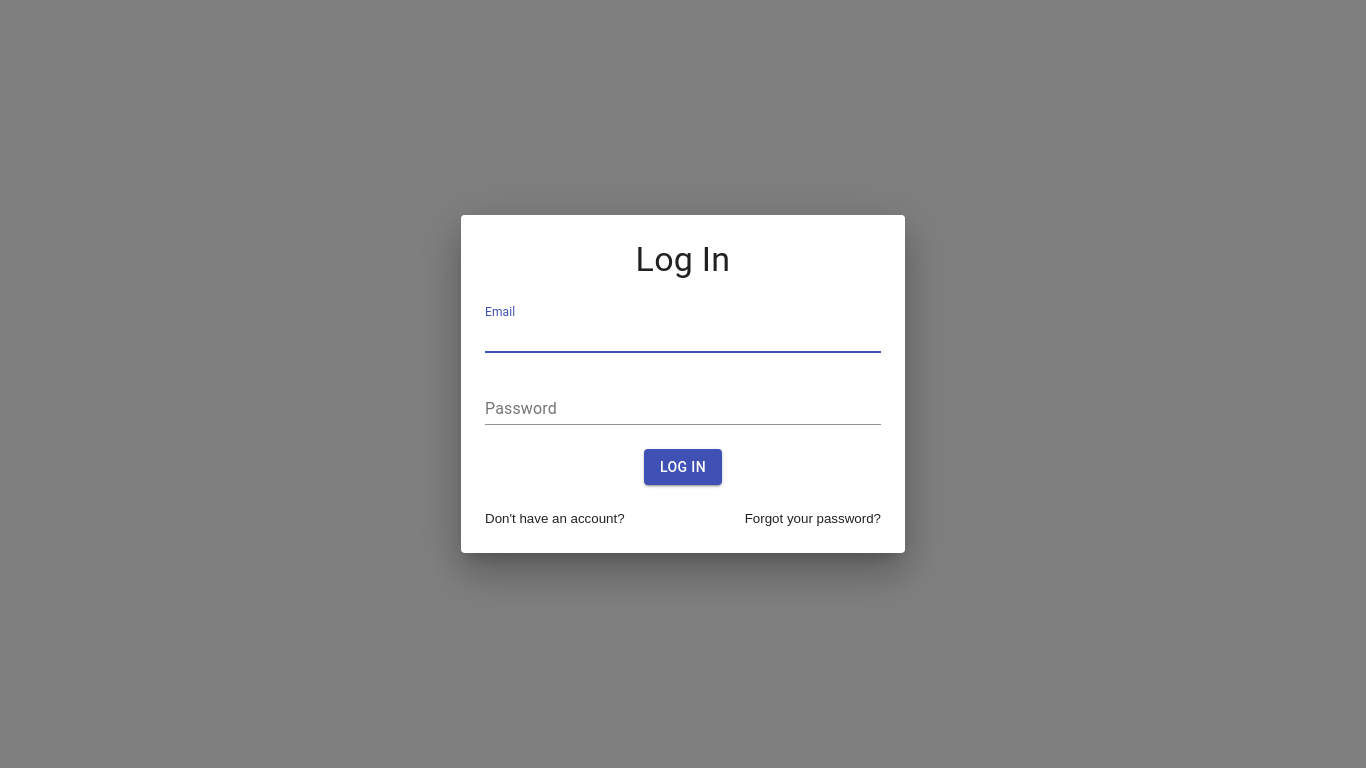
it: <SignInDialog /> › Validation › should give an error on submit if password is less than 6 characters
In the field labelled "Email": {"x": 683, "y": 337} [485, 321, 881, 353], type "123@gmail.com"
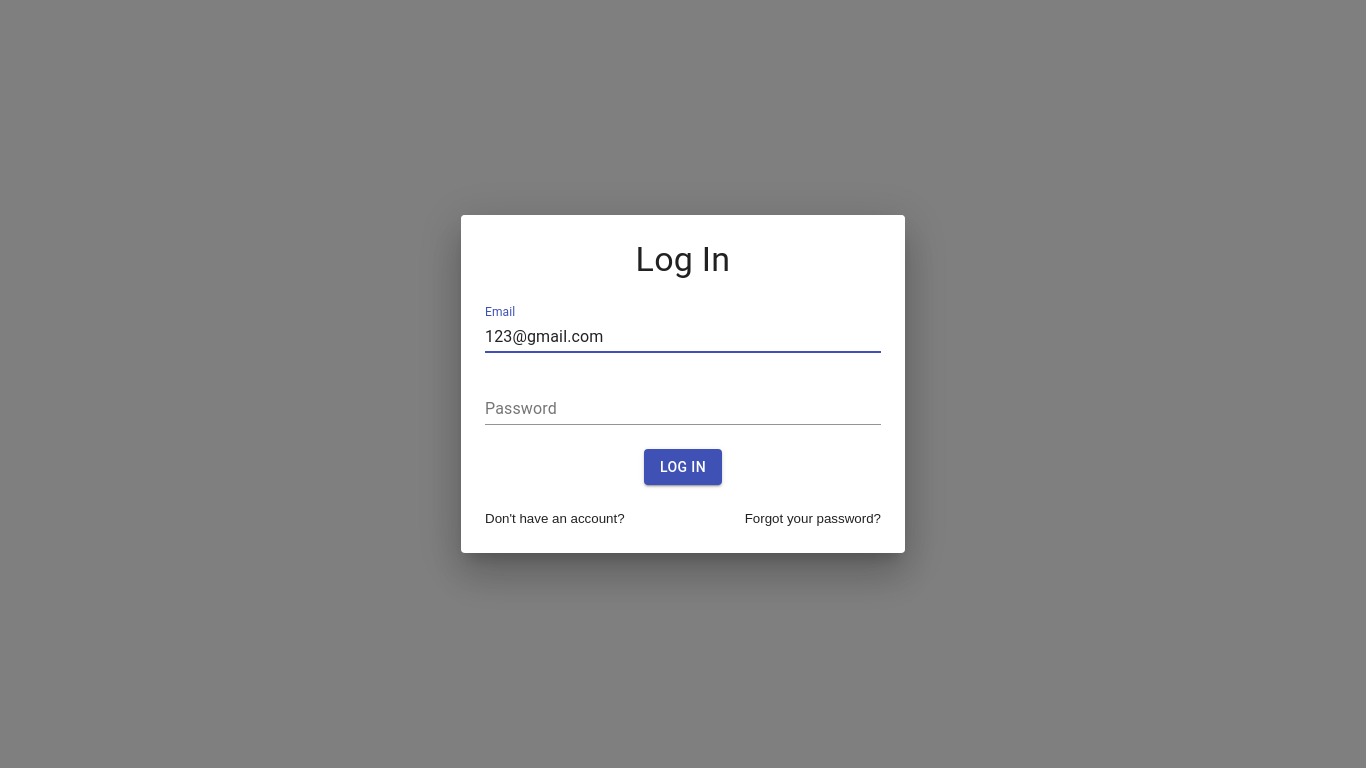
In the password field labelled "Password": {"x": 683, "y": 409} [485, 393, 881, 425], type "123"
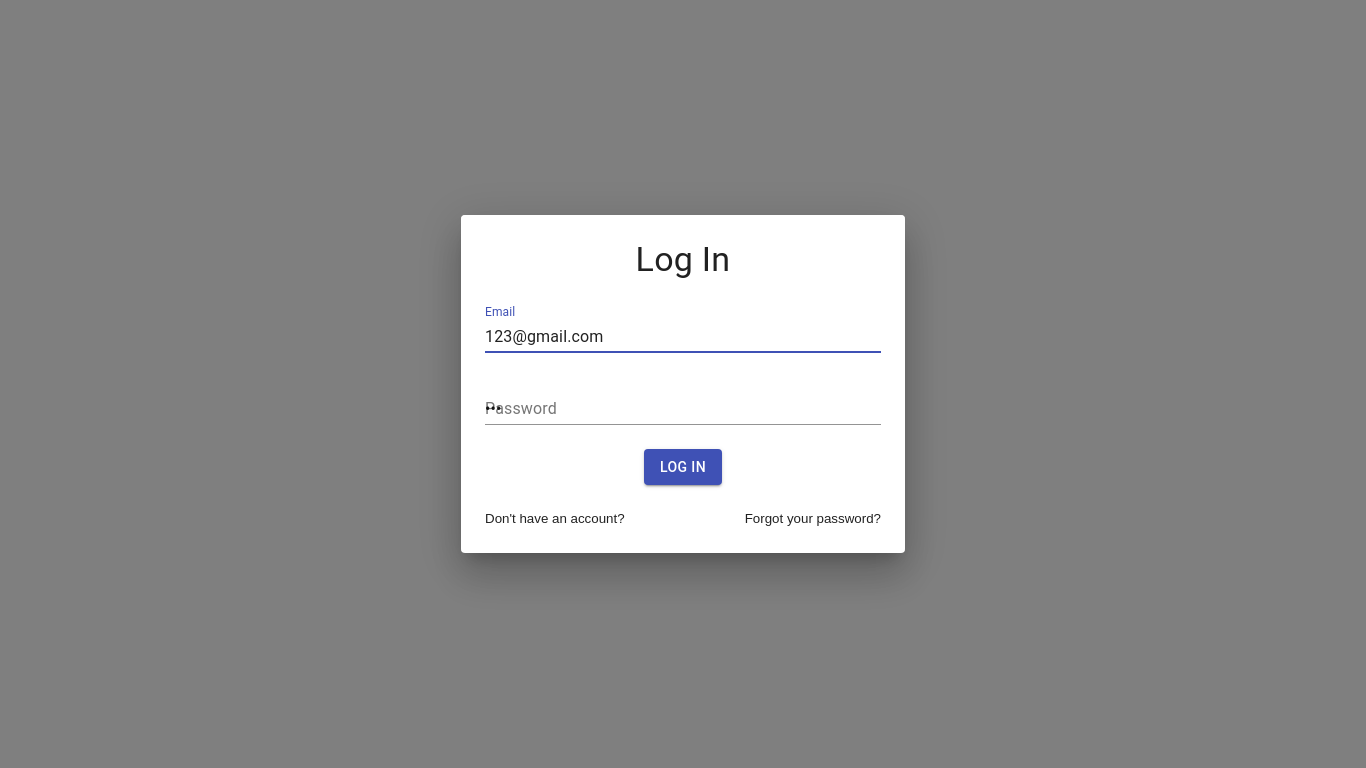
Submit the form, box [485, 293, 881, 497]
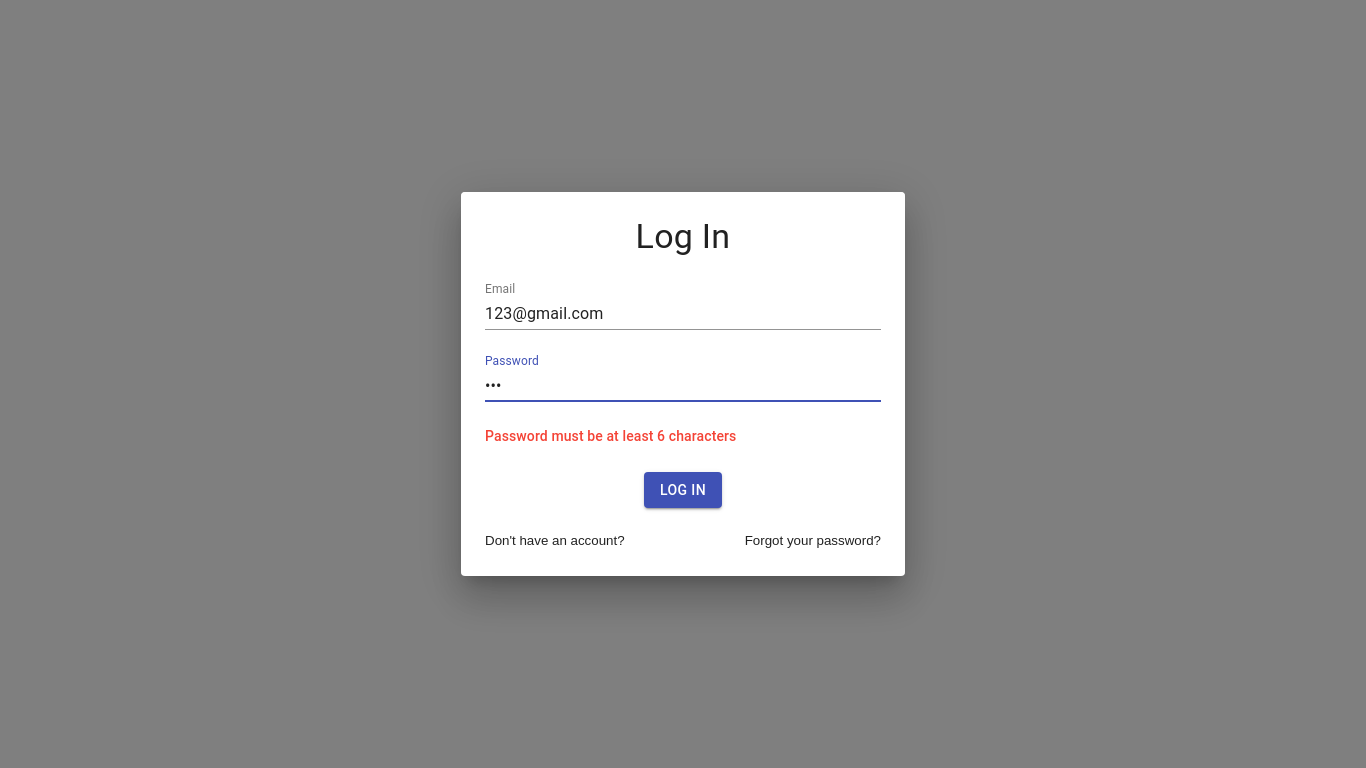
expect the text "Password must be at least 6 characters" is shown: met, box [485, 428, 736, 444]
